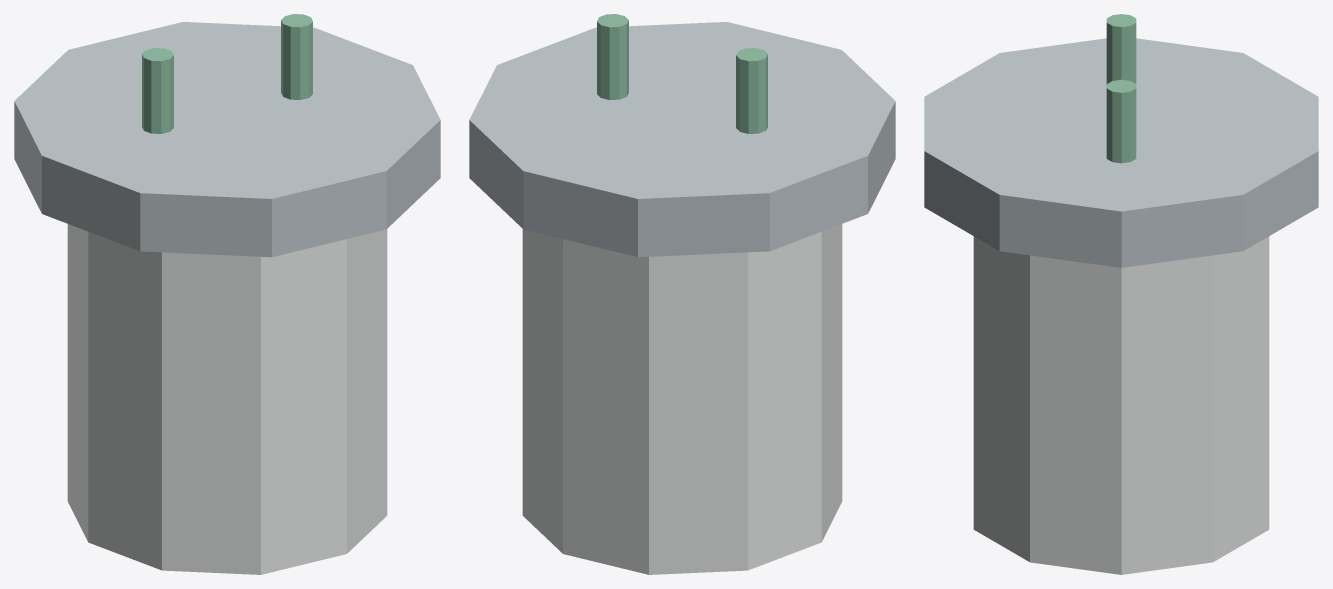
The model's file is eyewash_station.glb.
The picture shows the model from 3 angles, left to right: view 1: azimuth 30°, elevation 25°; view 2: azimuth 150°, elevation 25°; view 3: azimuth 270°, elevation 25°; orthographic projection. The views are drawn at different scales.
Bounding box in the file's own units: 0.8 × 0.97 × 0.7608.
